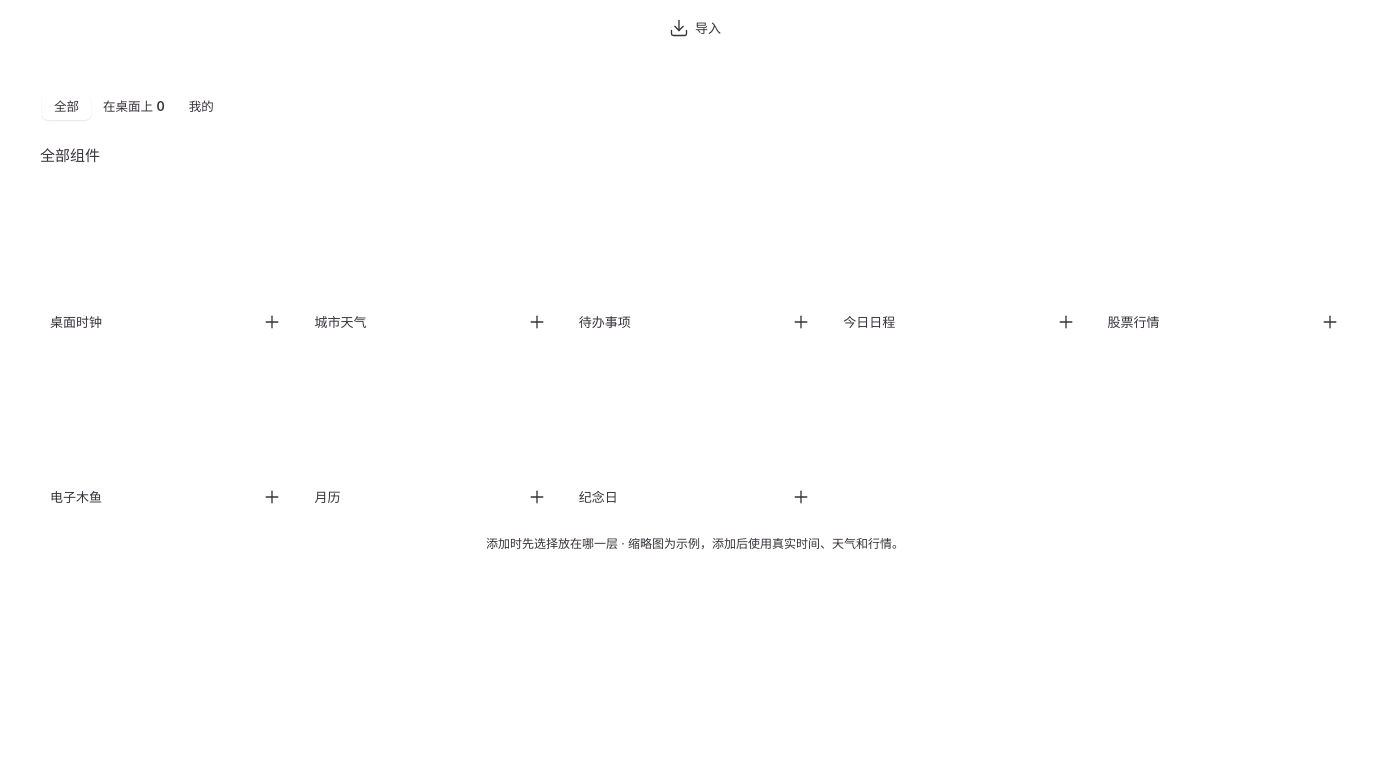
Test: replacement widget library › switches to custom category and shows empty state
Step 1. Click the button with test id "widgets-filter-mine" → (201, 107), box [177,94,226,120]
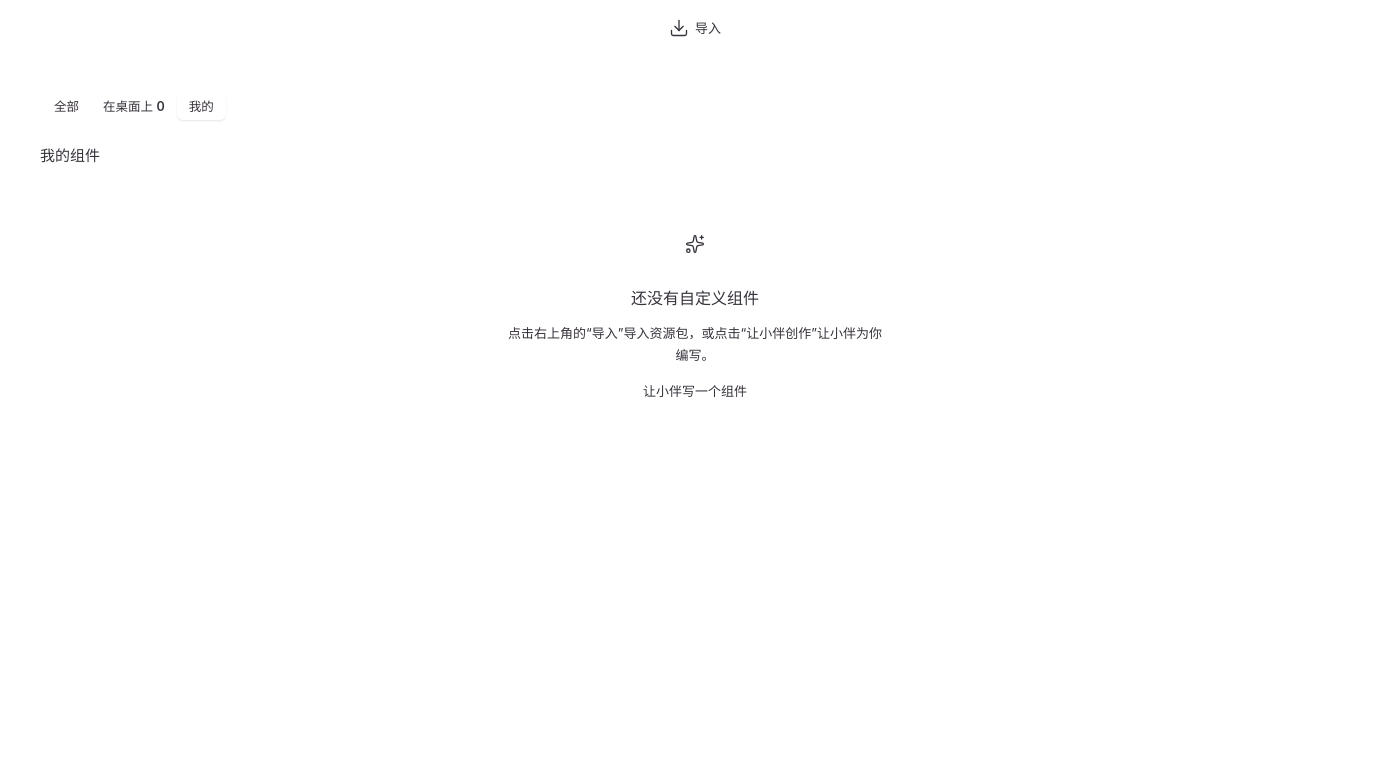
Expected: the element with test id "custom-empty" is shown, [508,234,882,408]
Expected: the text "还没有自定义组件" is shown, [631,286,759,312]
